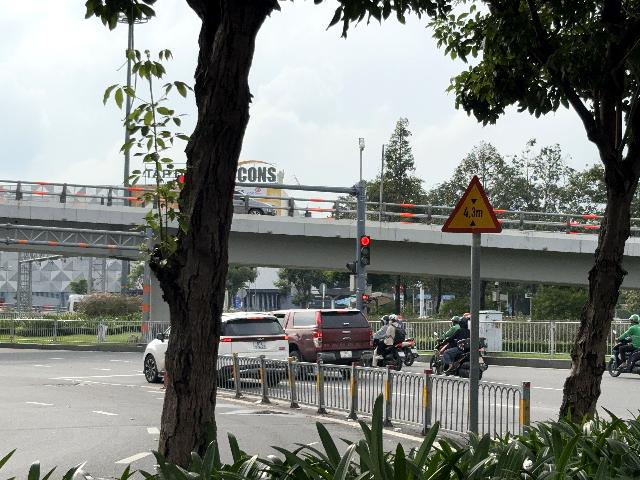chieu-cao-tinh-khong-thuc-te: (442, 175, 503, 233)
